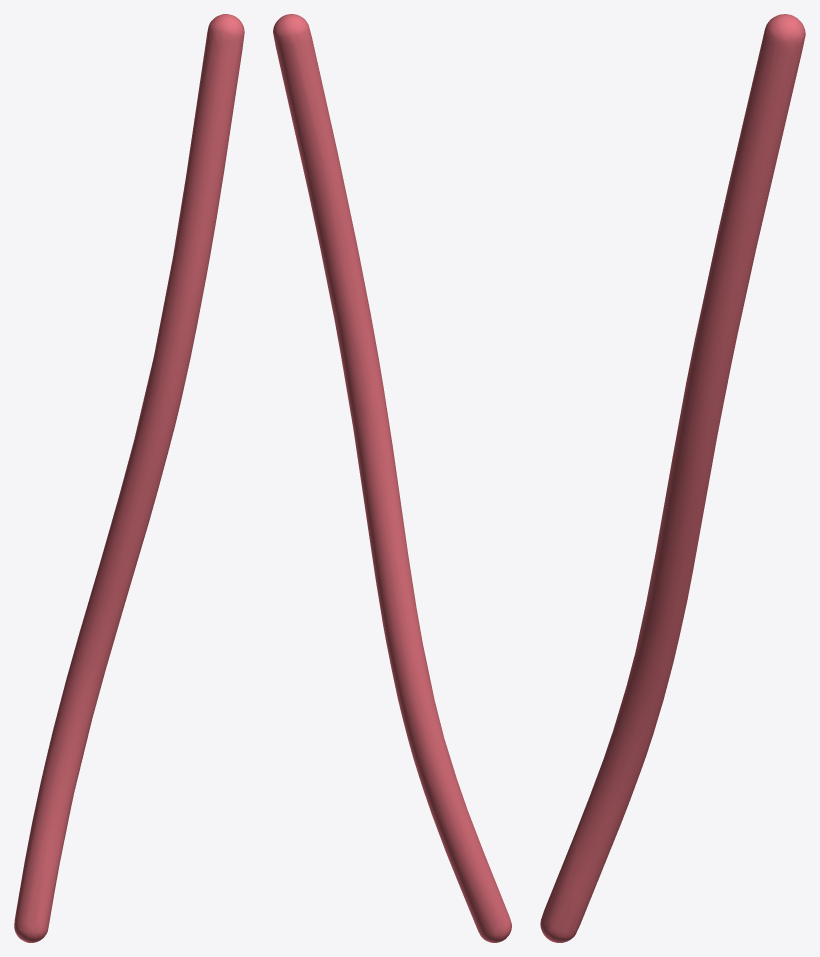
Rendered from fma23124_fj2362.glb.
3 renders of one model, left to right at view 1: azimuth 30°, elevation 25°; view 2: azimuth 150°, elevation 25°; view 3: azimuth 330°, elevation 25°, orthographic. The views are drawn at different scales.
Parts seen in each view (by area): view 1: FMA23124_FJ2362; view 2: FMA23124_FJ2362; view 3: FMA23124_FJ2362.
Boxes of the visible parts, x1,y1,x2,y2 form: FMA23124_FJ2362: (14, 14, 244, 942); FMA23124_FJ2362: (273, 14, 511, 942); FMA23124_FJ2362: (540, 14, 805, 942).
Size of the model in its own units: 0.0197 by 0.0719 by 0.00508.
